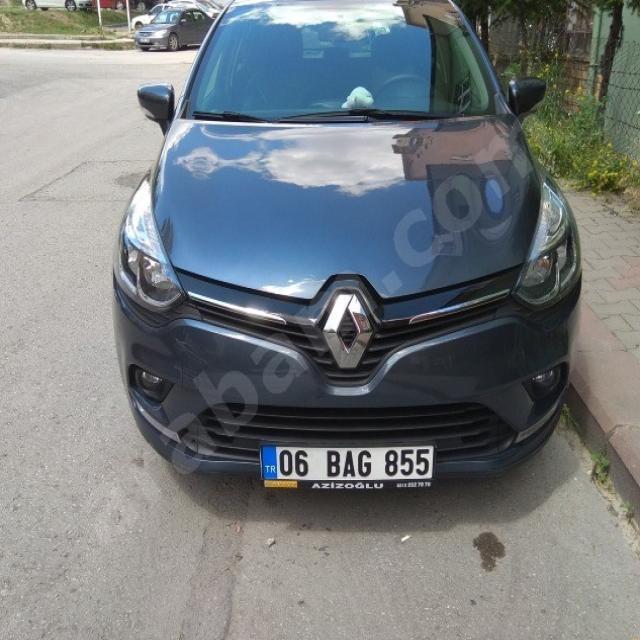license_plate: (260, 444, 434, 480)
